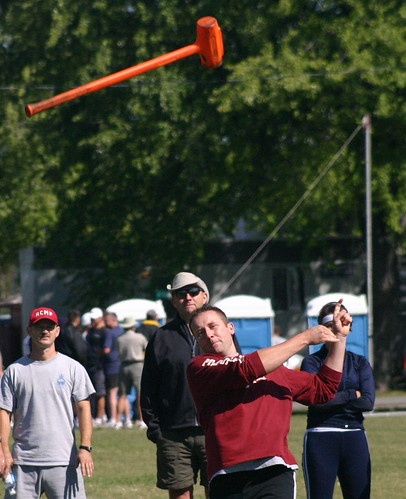hammer: (27, 15, 230, 113)
